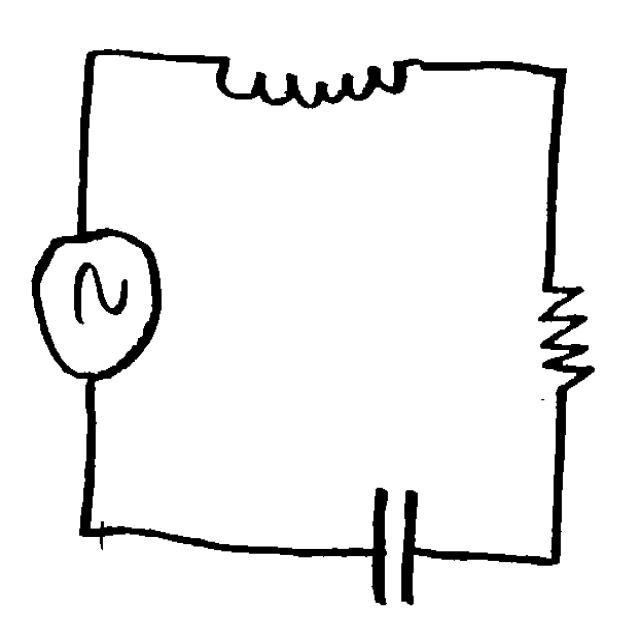ac: (20, 210, 169, 388)
capacitor: (351, 468, 430, 616)
inductor: (203, 38, 422, 118)
resistor: (522, 264, 600, 406)
